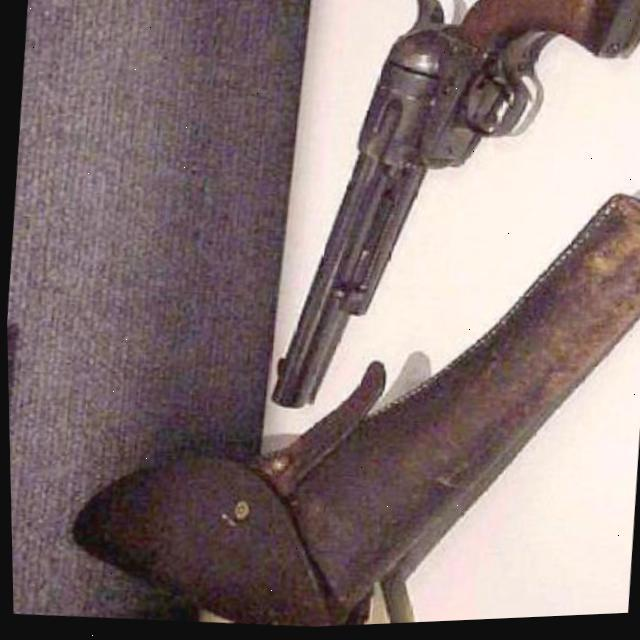gun: (256, 0, 640, 440)
